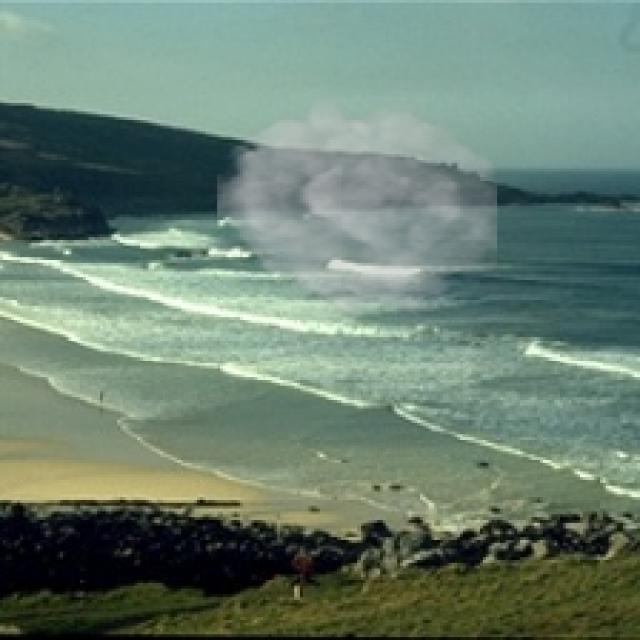Smoke: (217, 91, 497, 323)
